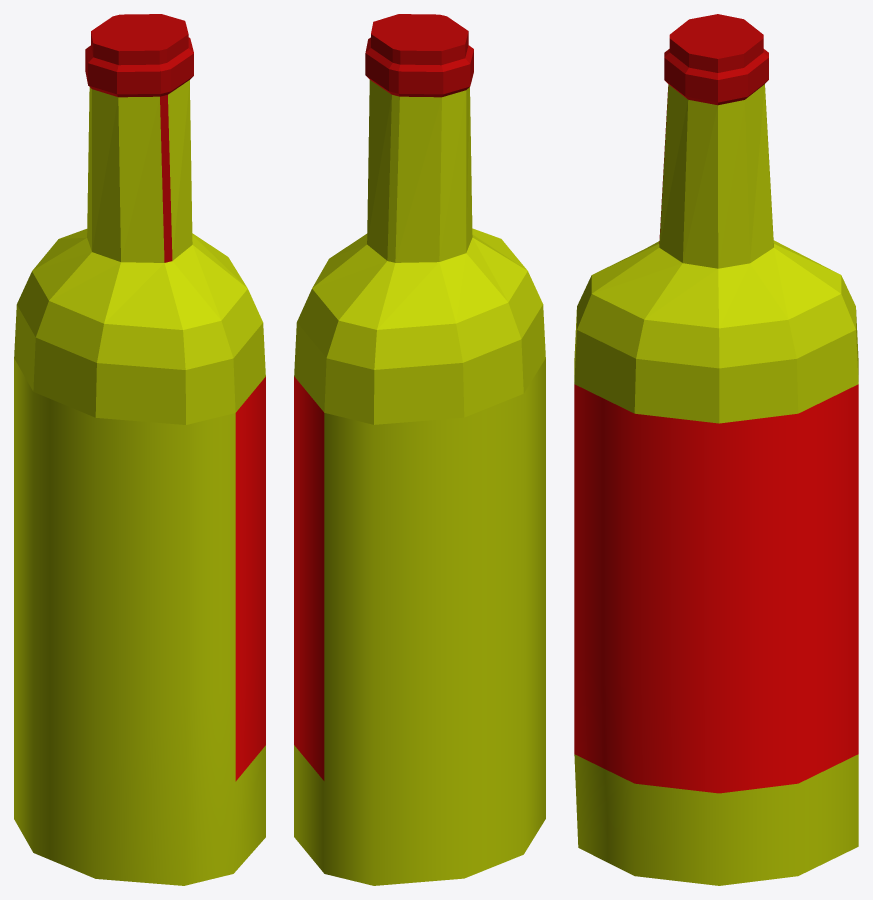
The model's file is BotellaVino3 1.fbx.
3 views of the same model, side by side, from view 1: azimuth 30°, elevation 25°; view 2: azimuth 150°, elevation 25°; view 3: azimuth 270°, elevation 25° (orthographic).
Parts seen in each view (by area): view 1: BotellaVino03_LOD00; view 2: BotellaVino03_LOD00; view 3: BotellaVino03_LOD00.
Boxes of the visible parts, x1,y1,x2,y2 form: BotellaVino03_LOD00: (14, 14, 265, 885); BotellaVino03_LOD00: (294, 14, 545, 885); BotellaVino03_LOD00: (574, 14, 858, 885).
Size of what is drawn, in the model's own units: 12.38 by 44.79 by 14.44.
1 material, 1 textured.
